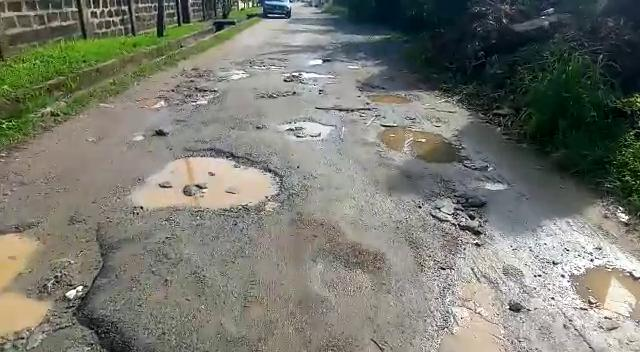pothole: (0, 221, 127, 352), (126, 145, 295, 211), (571, 264, 637, 330), (374, 125, 471, 166), (416, 191, 487, 245), (137, 82, 220, 112), (279, 119, 333, 142), (321, 105, 379, 119), (363, 92, 418, 106), (282, 69, 335, 80), (256, 88, 305, 99)
